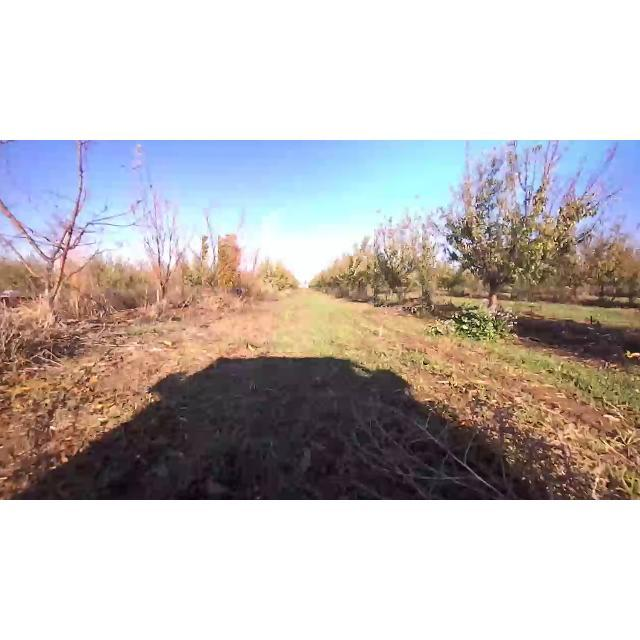direk: (435, 140, 625, 328), (0, 140, 132, 328), (141, 192, 191, 306), (374, 229, 422, 307), (202, 208, 218, 296), (246, 238, 262, 292), (349, 256, 367, 298)
